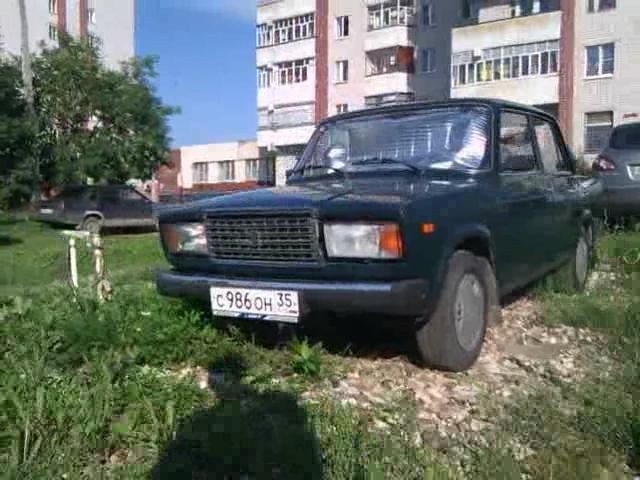car license plate: (207, 284, 306, 328)
